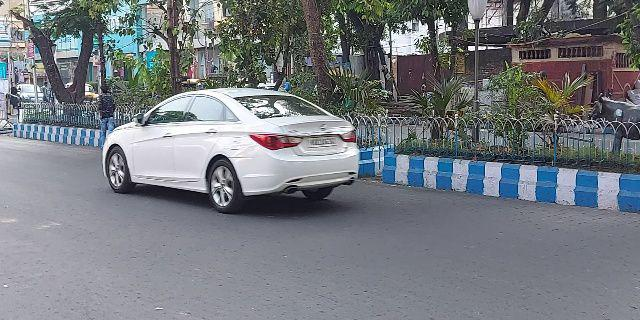Car: (98, 85, 363, 220)
